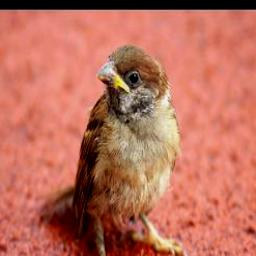Sparrow: (39, 42, 191, 256)
